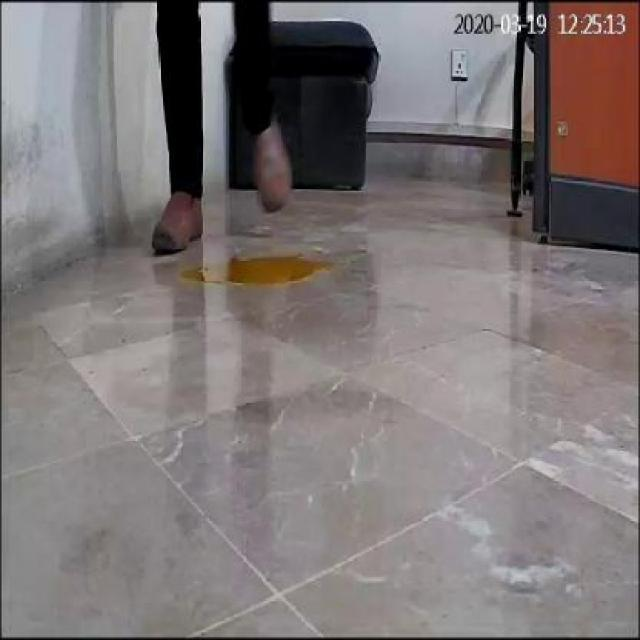spill: (186, 250, 334, 288)
